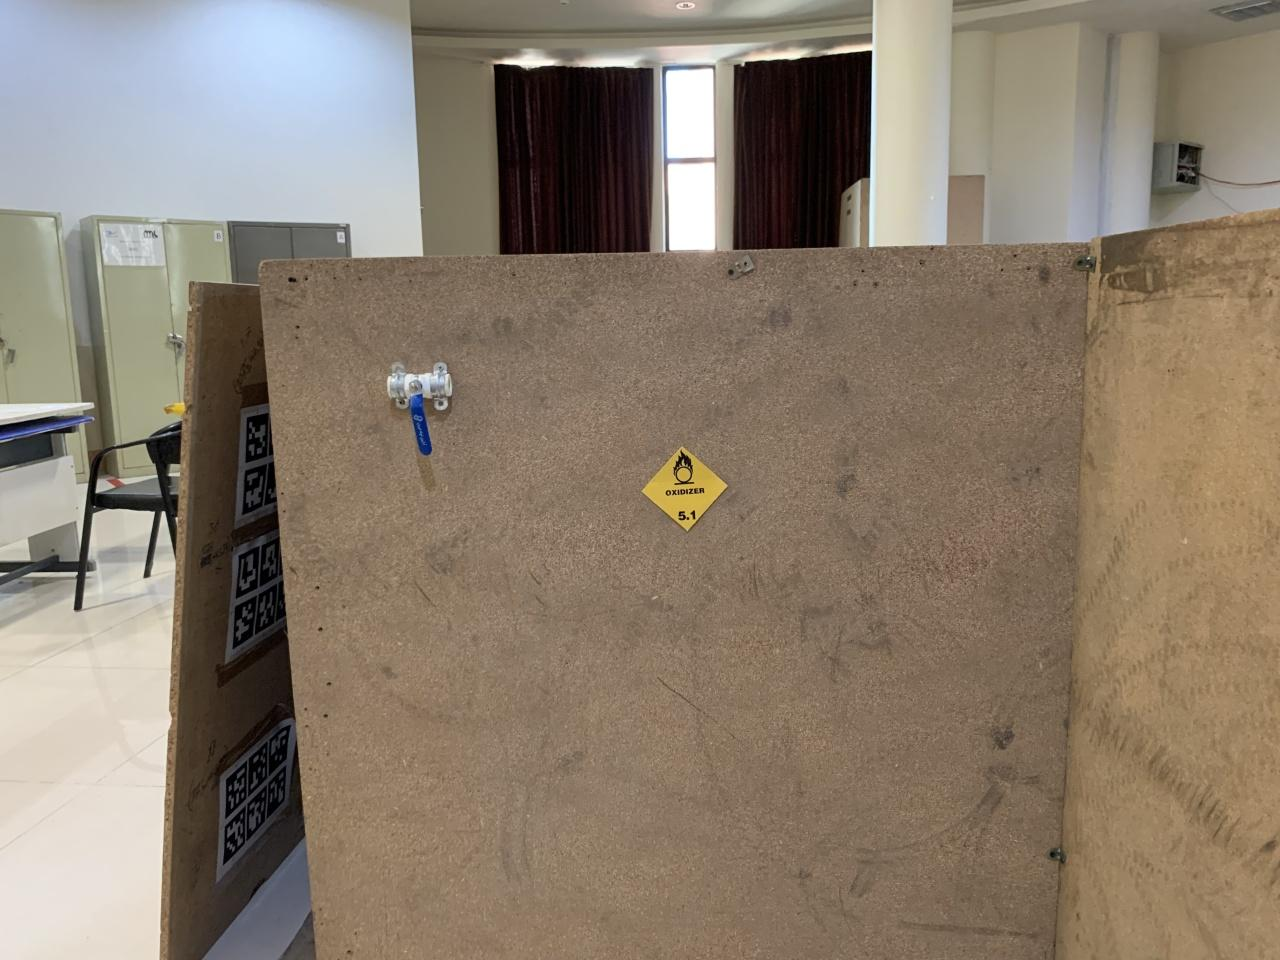oxidizer: (640, 447, 730, 534)
